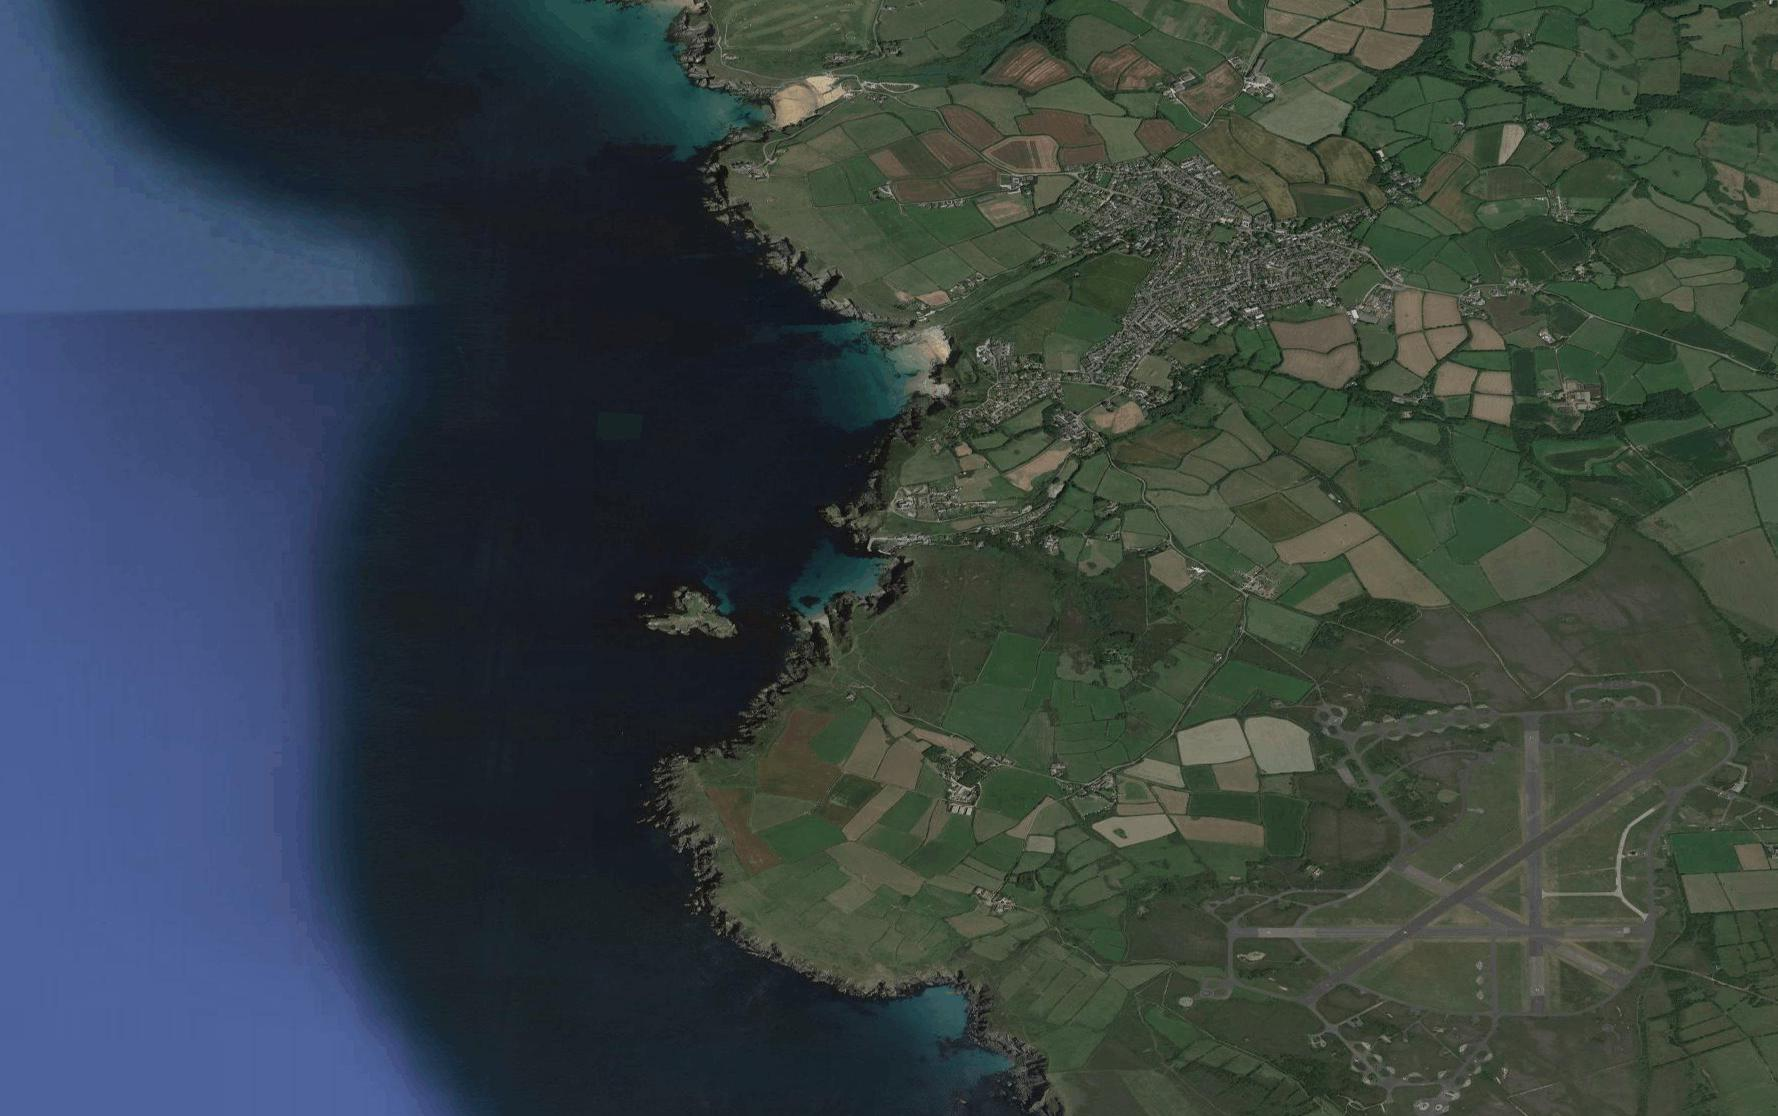harbor: (860, 535, 897, 562)
